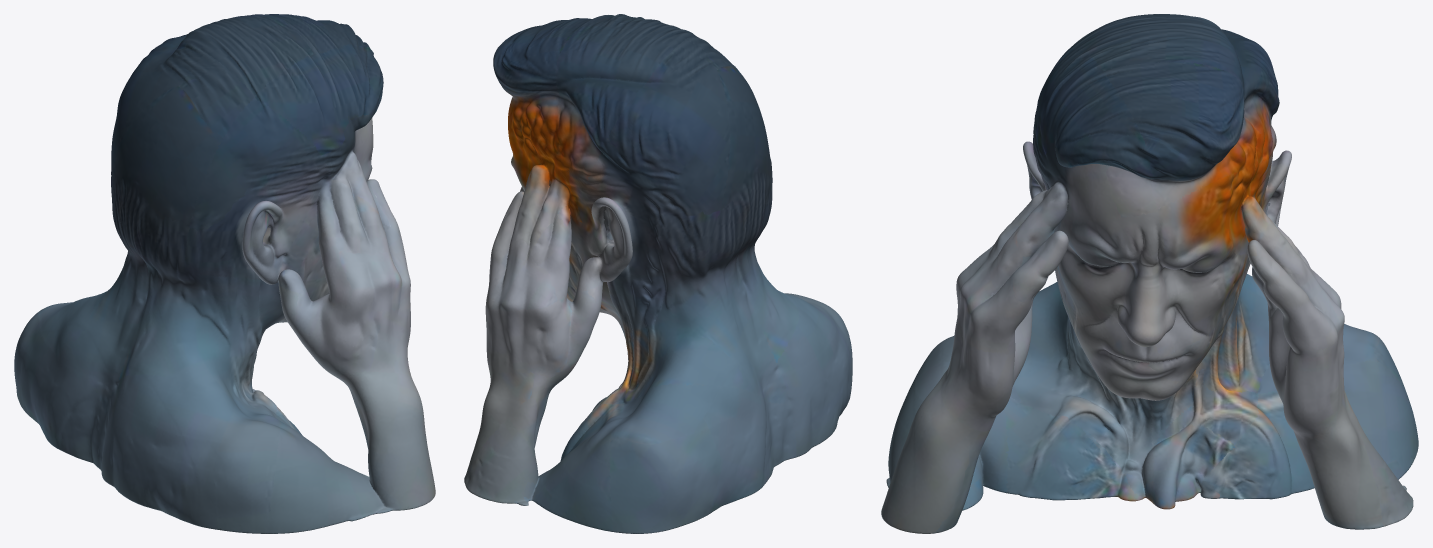
Rendered from migraine1.glb.
3 views of the same model, side by side, from view 1: azimuth 30°, elevation 25°; view 2: azimuth 150°, elevation 25°; view 3: azimuth 270°, elevation 25° (orthographic). The views are drawn at different scales.
Visible parts, largest first — view 1: Migraine; view 2: Migraine; view 3: Migraine.
Part boxes in pixels (x1,y1,x2,y2): Migraine: [14, 14, 435, 533]; Migraine: [464, 14, 852, 533]; Migraine: [881, 14, 1418, 533].
Size of the model in its own units: 0.701 by 0.941 by 1.
1 material, 1 textured.
